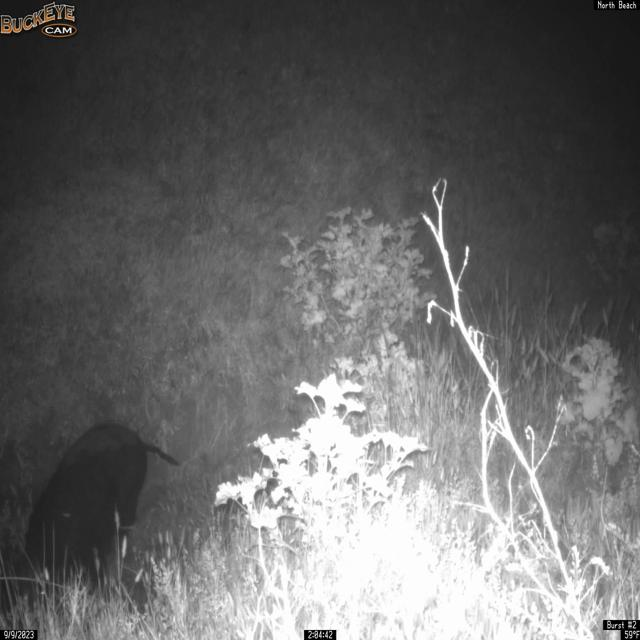pig: (1, 420, 181, 619)
